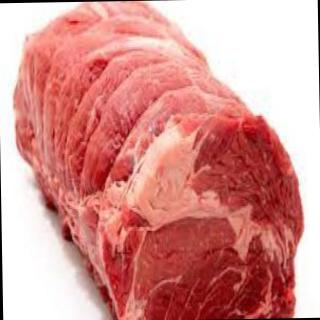Daging Sapi: (14, 1, 306, 320)
